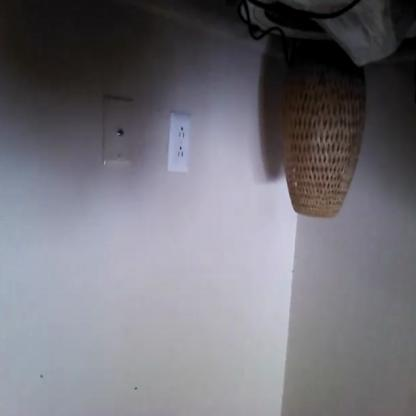OUTLET: (169, 112, 190, 173)
